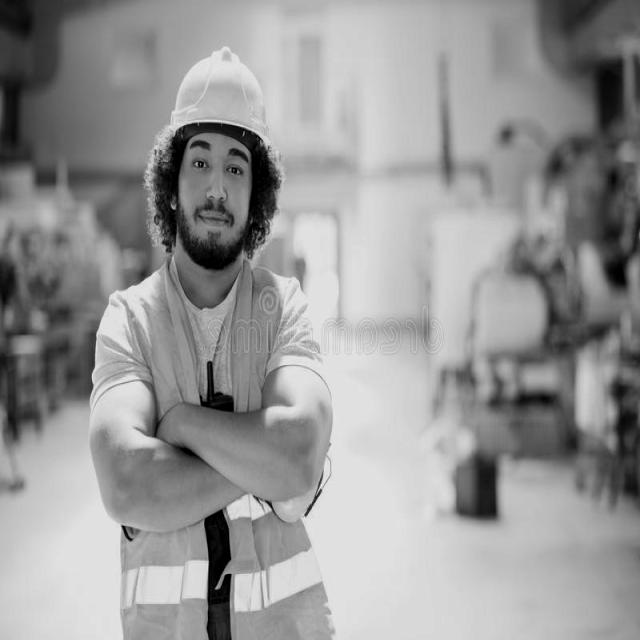face_nomask: (173, 143, 247, 260)
head_helmet: (164, 38, 276, 152)
person: (96, 22, 325, 635)
vest: (120, 253, 313, 636)
